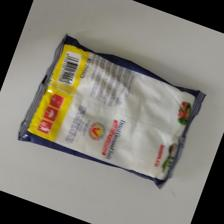Salt: (12, 35, 207, 189)
